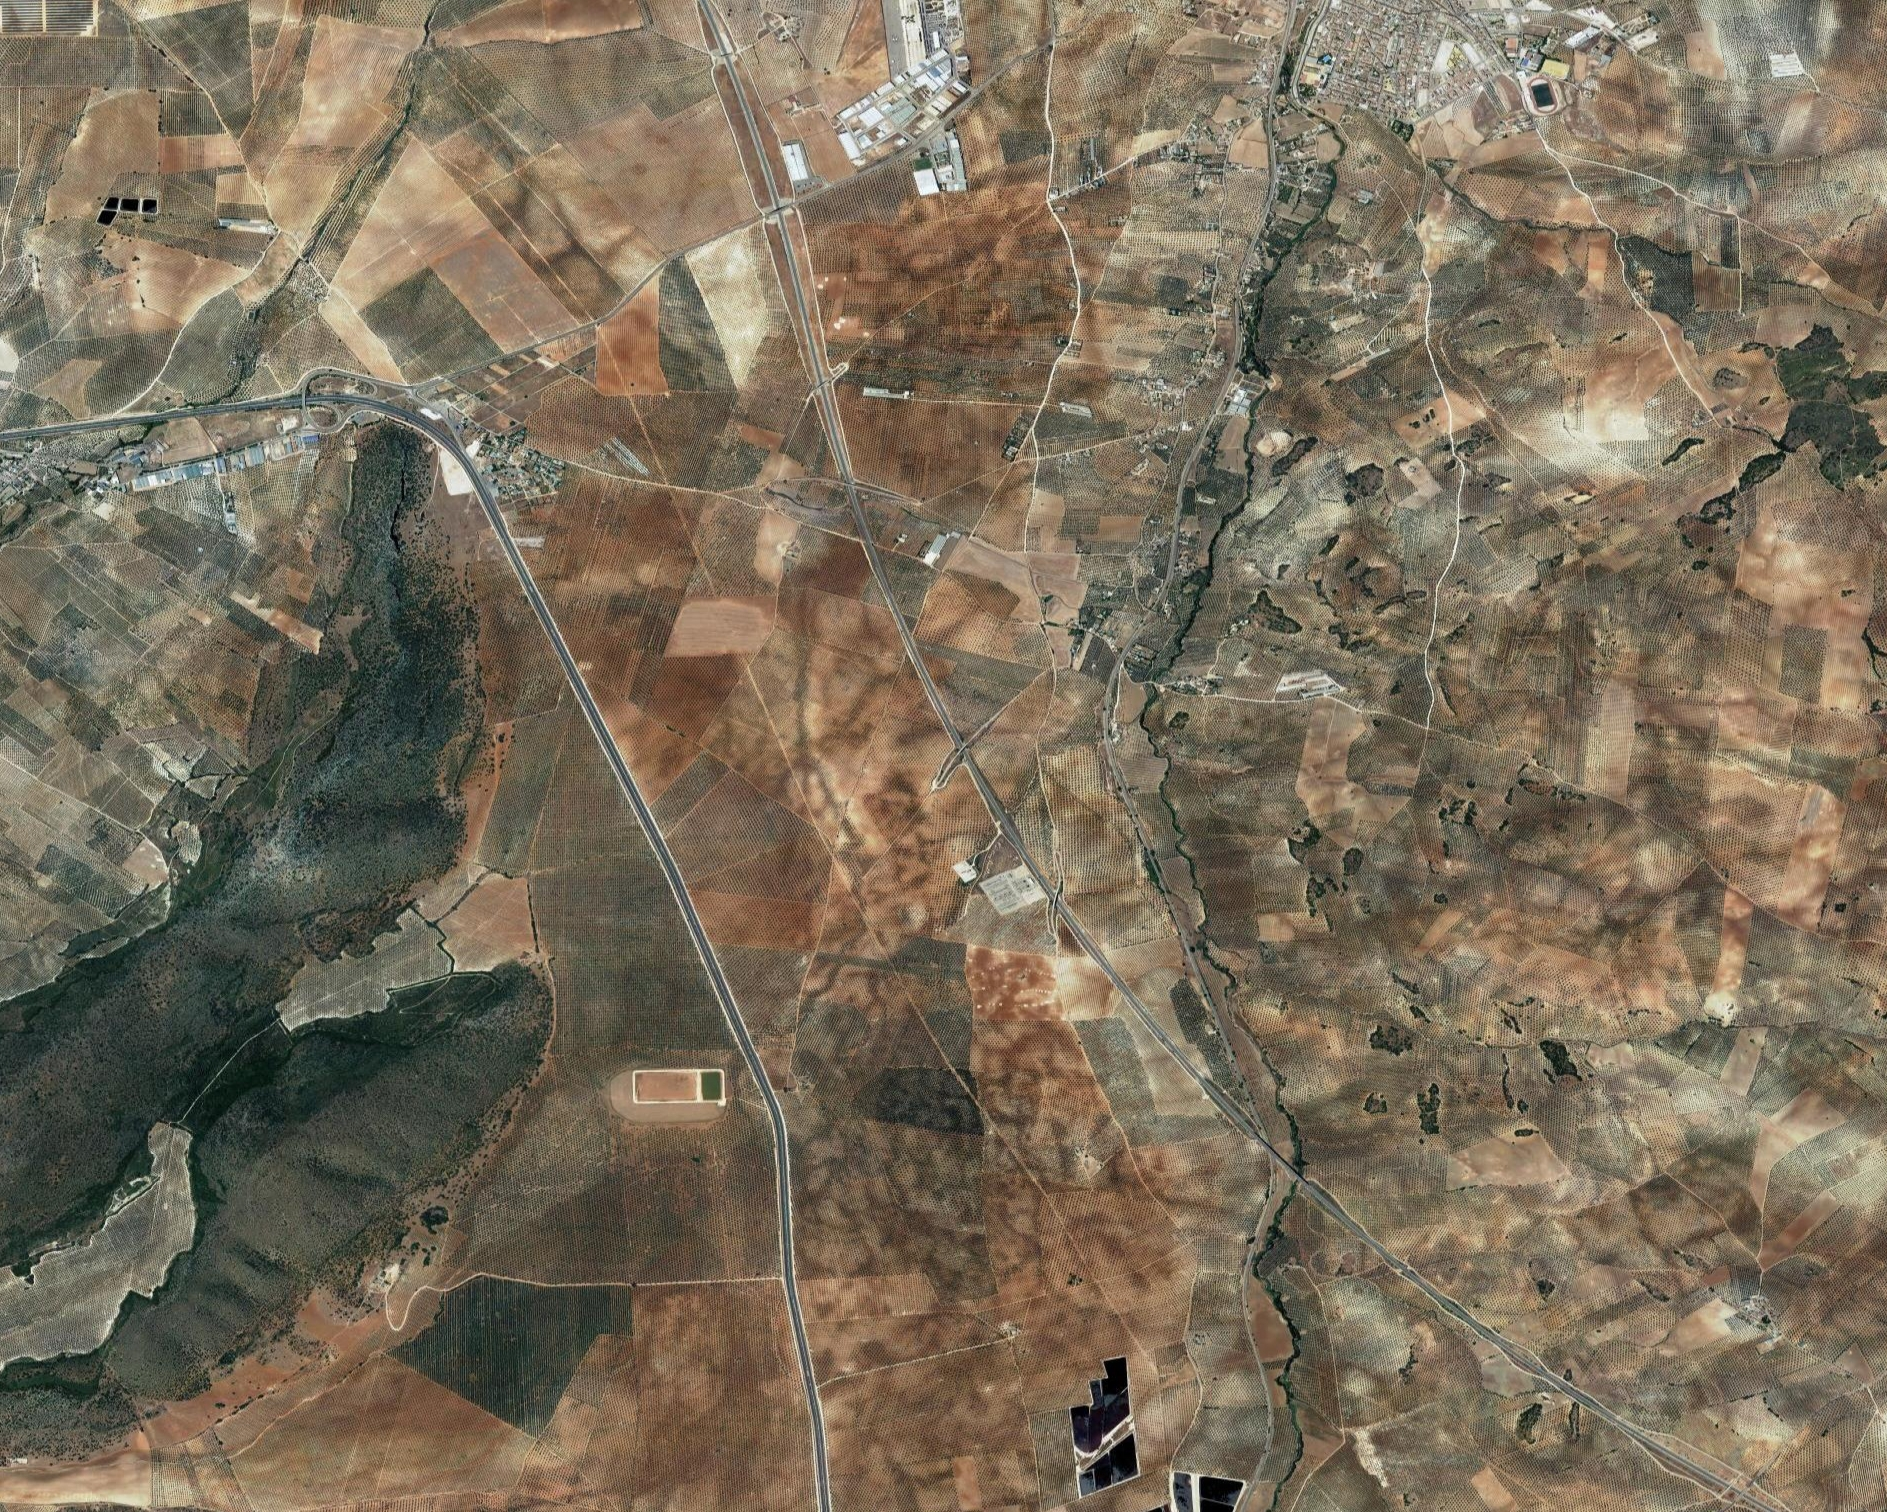motorway: (494, 535, 884, 1507), (32, 369, 511, 508)
